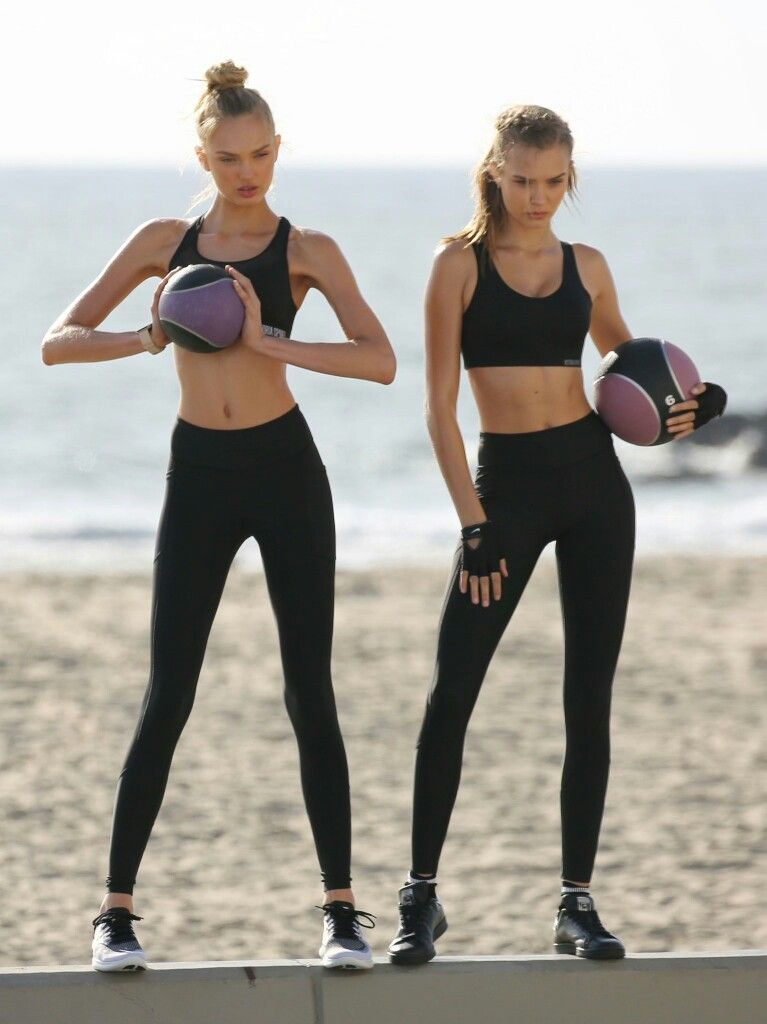Person: (42, 60, 397, 972), (390, 103, 728, 968)
